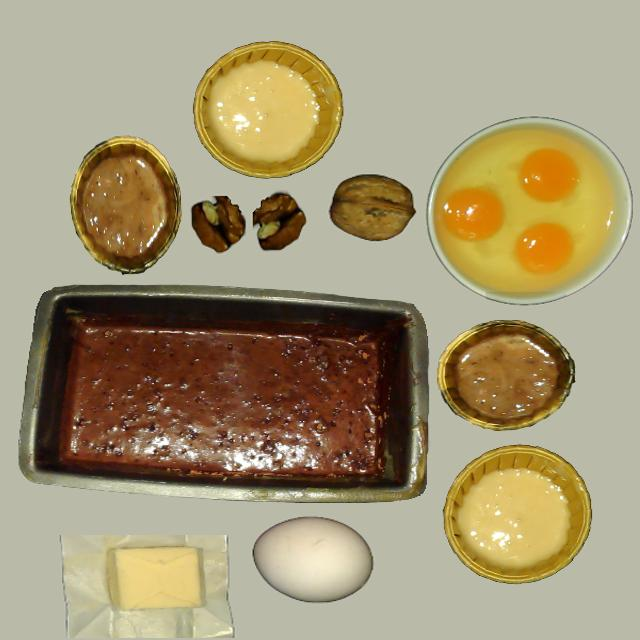Egg: (442, 188, 505, 242), (518, 148, 580, 202), (514, 222, 574, 275)
Walnut: (329, 174, 413, 241)
